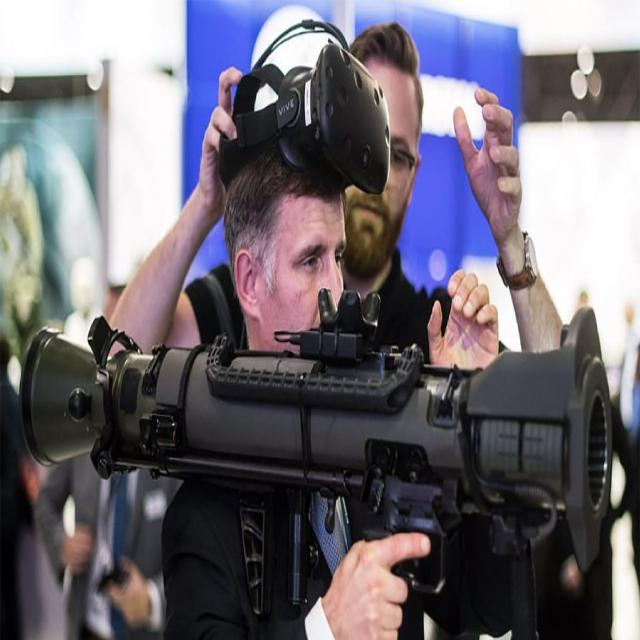bazooka: (9, 279, 623, 605)
